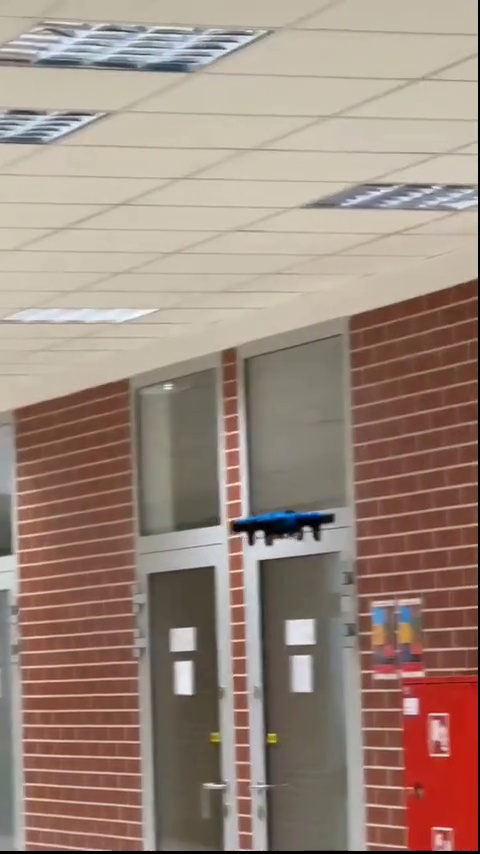drone: (228, 505, 333, 550)
